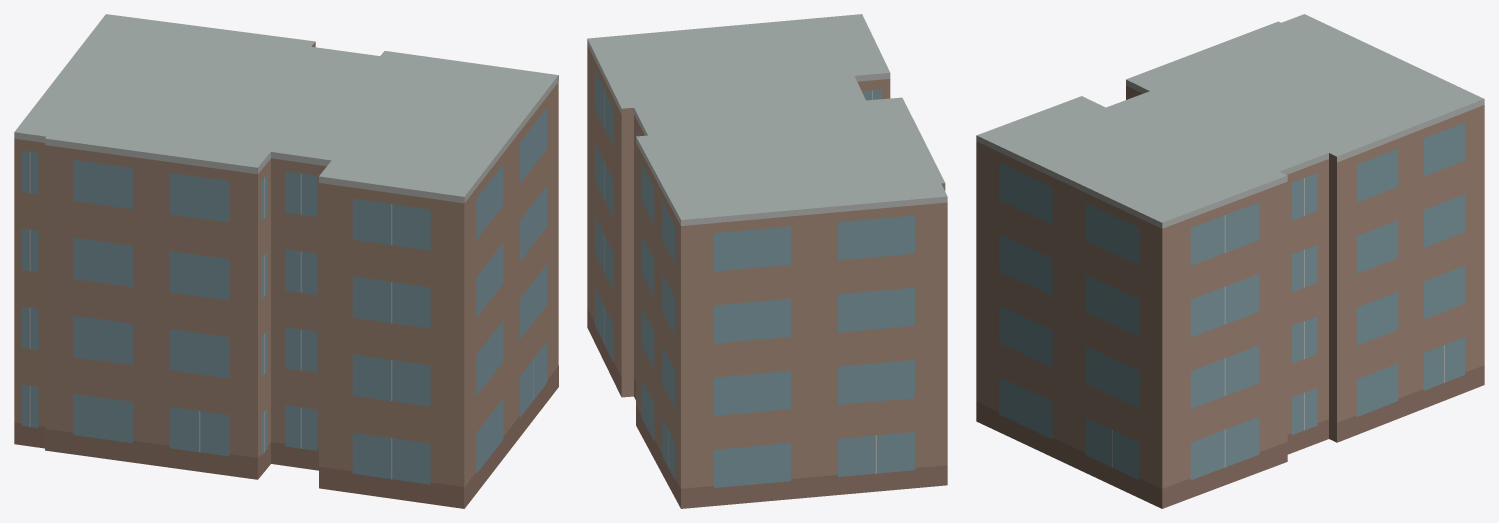
File: survey-upis-32930705.glb
3 renders of one model, left to right at view 1: azimuth 30°, elevation 25°; view 2: azimuth 150°, elevation 25°; view 3: azimuth 270°, elevation 25°, orthographic. The views are drawn at different scales.
Visible parts, largest first — view 1: survey-upis-32930705.tmp; view 2: survey-upis-32930705.tmp; view 3: survey-upis-32930705.tmp.
Boxes of the visible parts, x1=… form: survey-upis-32930705.tmp: x1=14, y1=14, x2=558, y2=508; survey-upis-32930705.tmp: x1=587, y1=14, x2=947, y2=508; survey-upis-32930705.tmp: x1=976, y1=14, x2=1484, y2=508.
Size of the model in its own units: 18.49 by 11.8 by 19.01.
